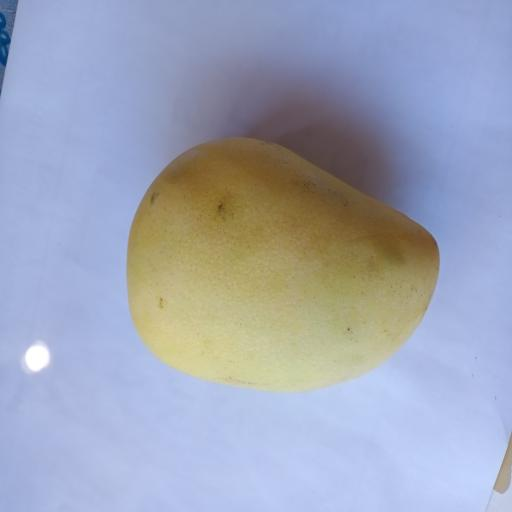mango-ripe: (87, 105, 457, 437)
